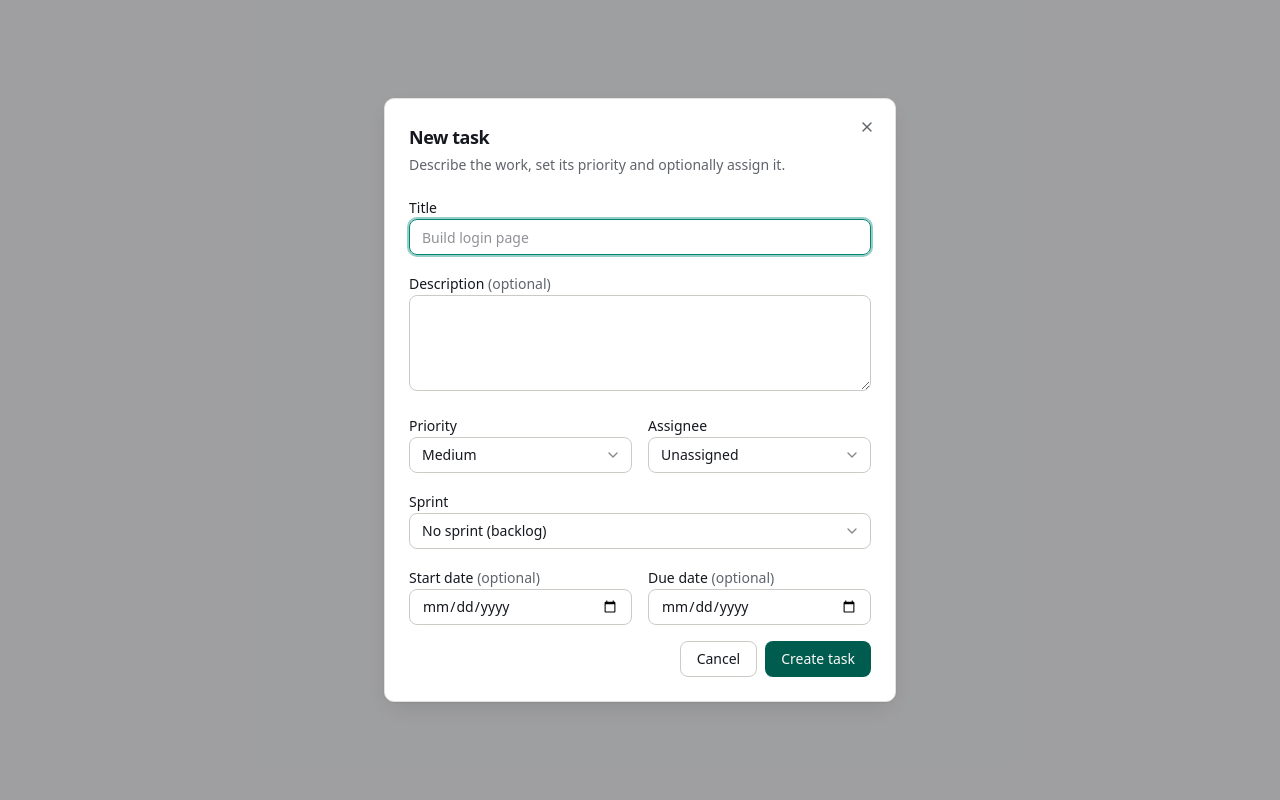
Test: TaskFormDialog › maps backend field errors onto the form and keeps the dialog open
Step 1. Type "X" into the field labelled "Title" → coordinates (640, 237), box [409,219,871,255]
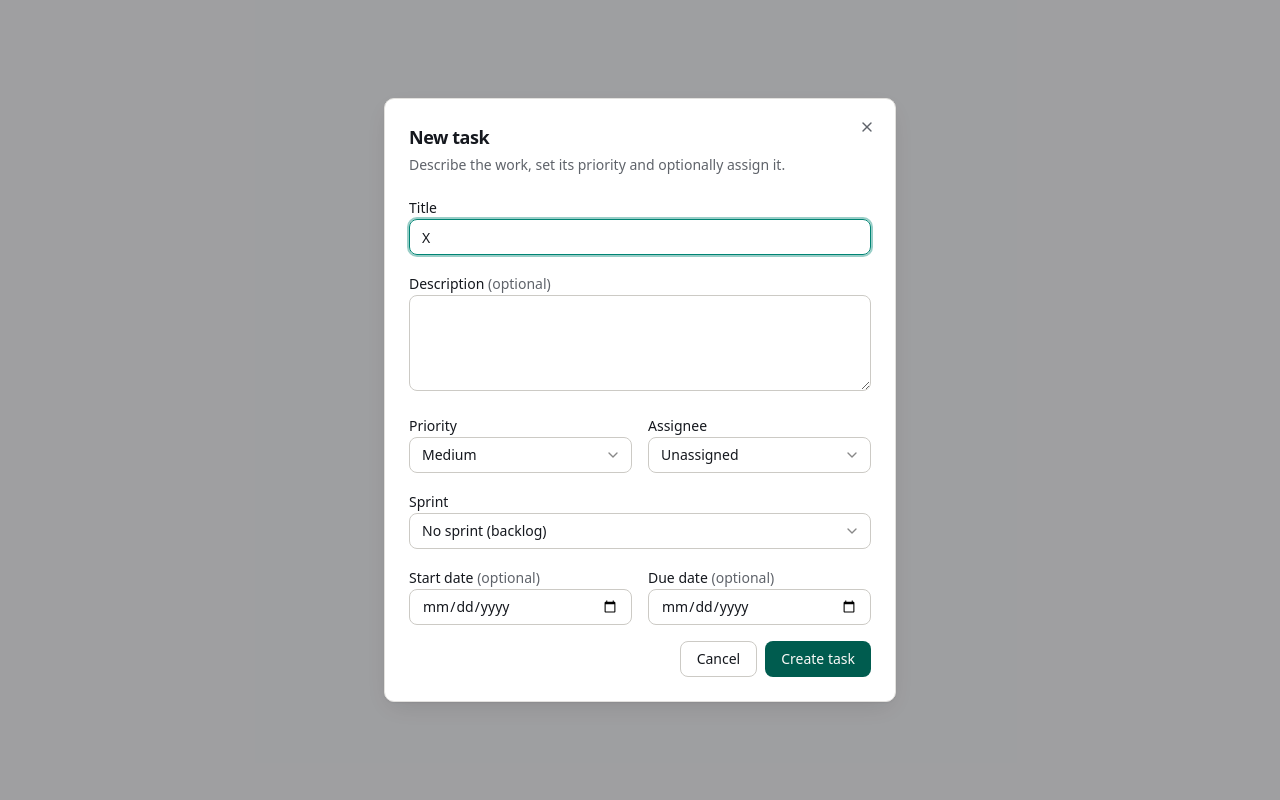
Step 2. Click the button "Create task" → coordinates (818, 659), box [765,641,871,677]
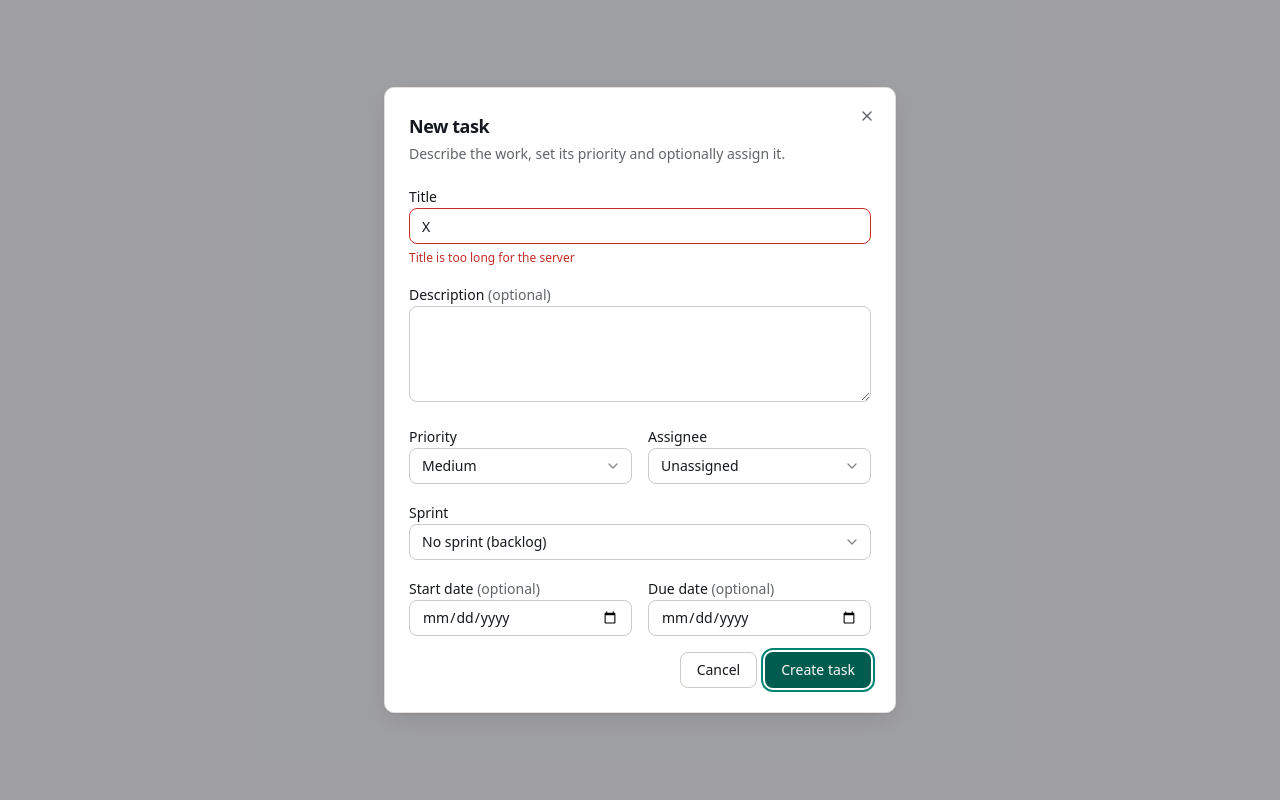
Check: the text "Title is too long for the server" is shown, box [409,249,575,266]
